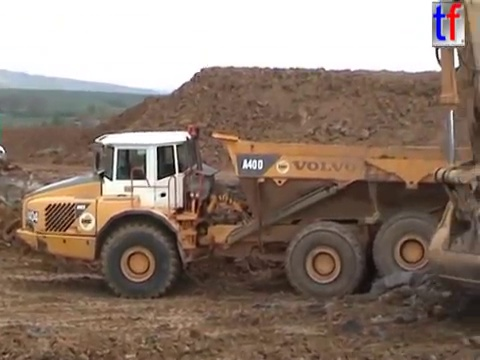excavator: (424, 1, 480, 300)
truck: (13, 122, 479, 304)
